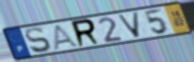2: (97, 16, 125, 44)
5: (142, 7, 171, 35)
A: (53, 23, 82, 51)
R: (70, 17, 103, 49)
S: (24, 26, 53, 54)
V: (115, 11, 142, 39)
